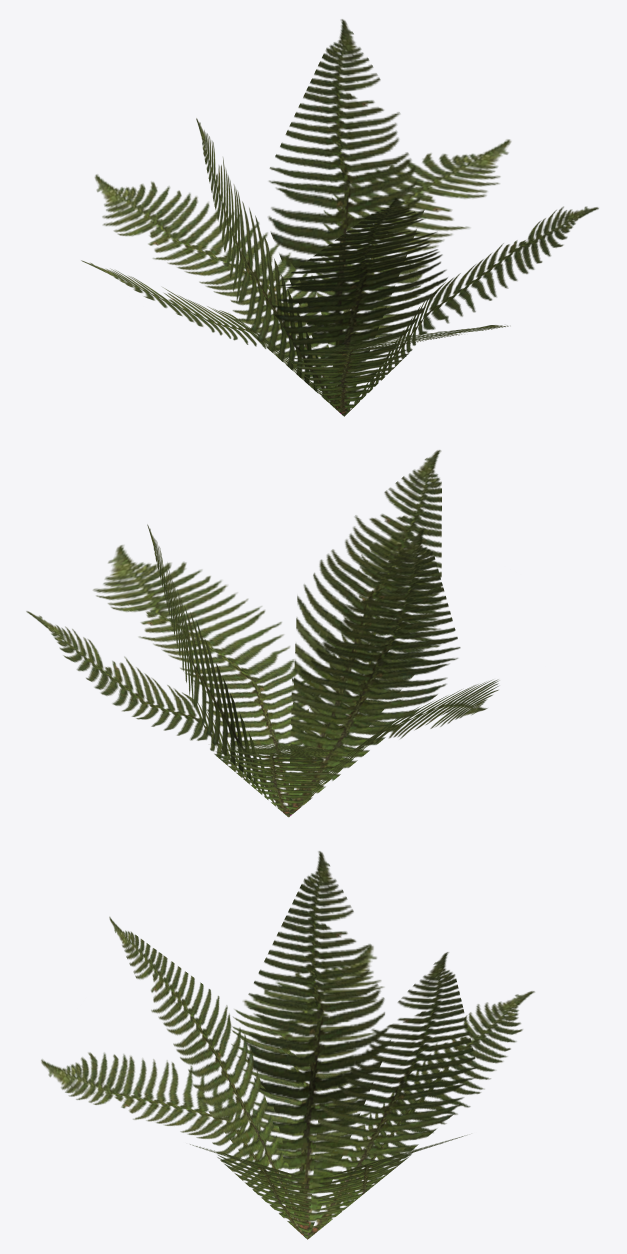
The model's file is mveg_bt.glb.
3 renders of one model, top to bottom at view 1: azimuth 30°, elevation 25°; view 2: azimuth 150°, elevation 25°; view 3: azimuth 270°, elevation 25°, orthographic. The views are drawn at different scales.
Visible parts, largest first — view 1: 01 Mesh0; view 2: 01 Mesh0; view 3: 01 Mesh0.
Part boxes in pixels (<box>): 01 Mesh0: <box>81,19,598,416</box>; 01 Mesh0: <box>26,450,499,817</box>; 01 Mesh0: <box>41,851,534,1239</box>.
Size of the model in its own units: 5.46 by 3.44 by 5.74.
2 materials, 1 textured.
